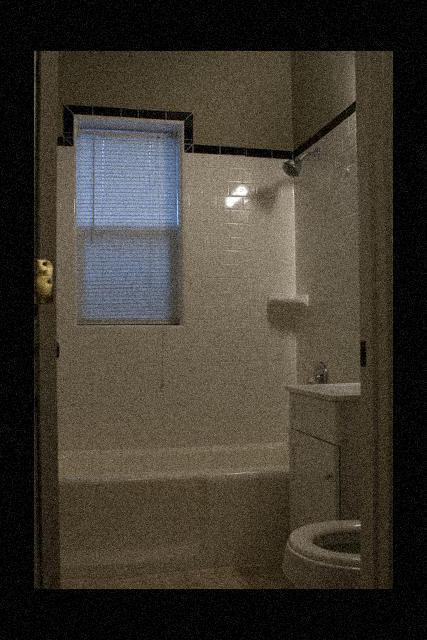Lavamanos: (291, 367, 393, 406)
Sanitario: (287, 512, 392, 589)
